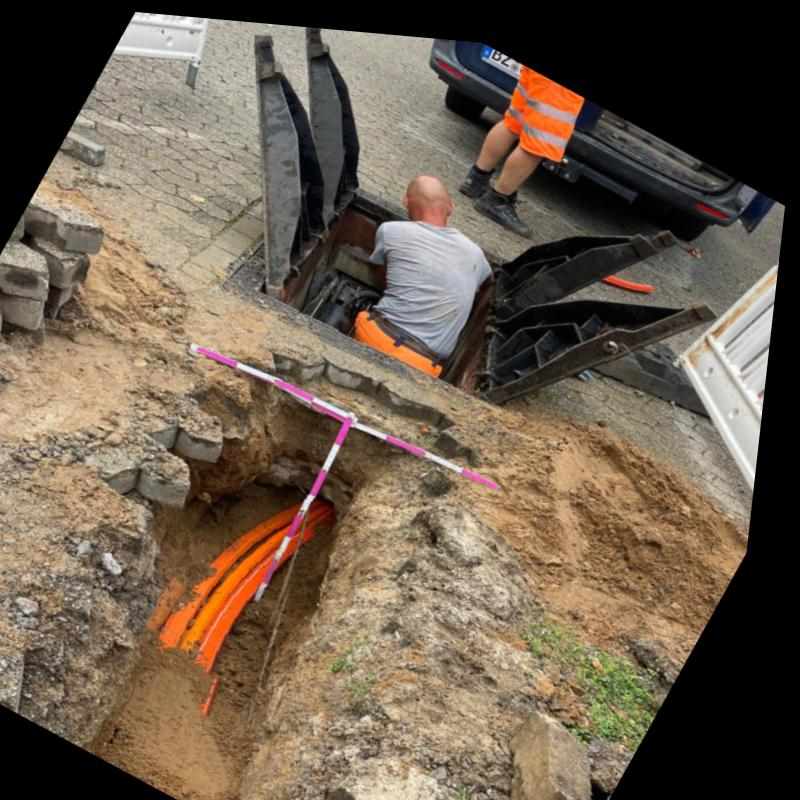Orang-Speednetrohrchen: (160, 490, 347, 672)
